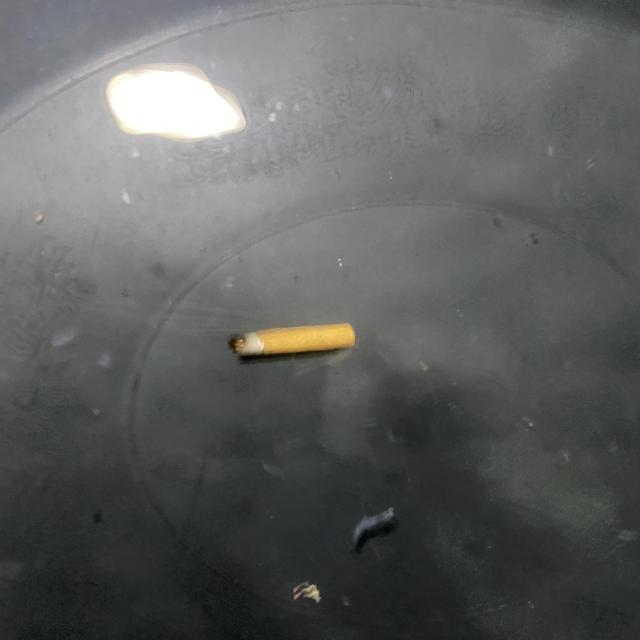Cigarette Filter: (229, 323, 355, 358)
